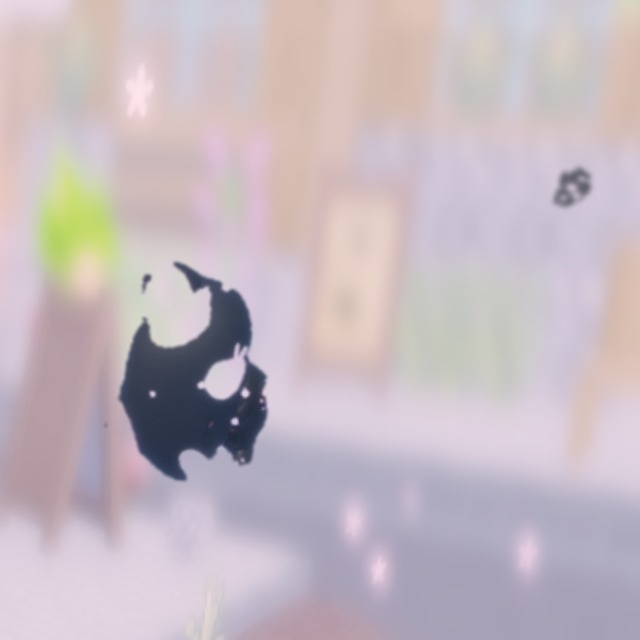urso_preto: (79, 224, 306, 526), (541, 160, 599, 220)
